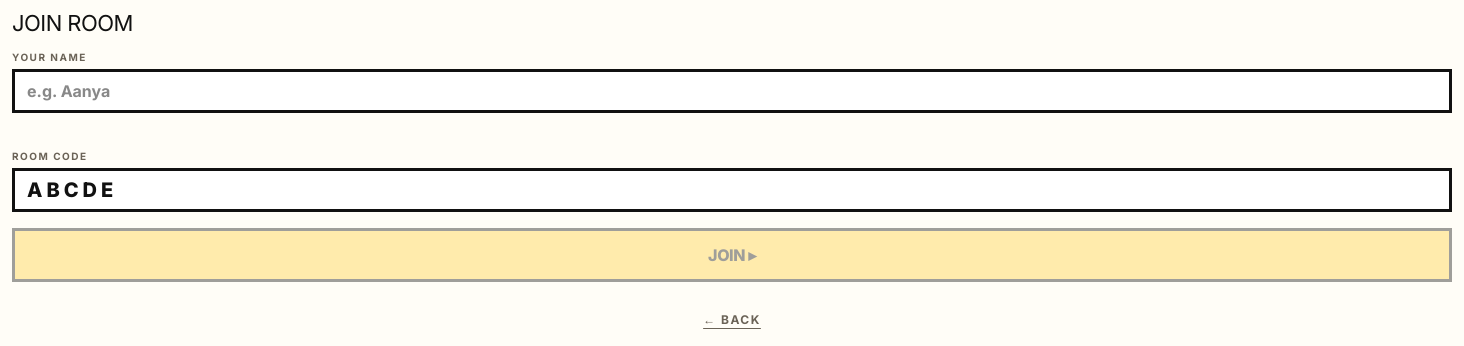
Test case: JoinRoom › lets a fresh visitor set a name inline (share-link flow) without losing the code
Check: the field labelled "Room code" holds "ABCDE", box [12,168,1452,212]
Check: the button "Join ▸" is disabled, box [12,228,1452,282]
Type "Mo" into the field labelled "Your name" at (732, 91), box [12,69,1452,113]
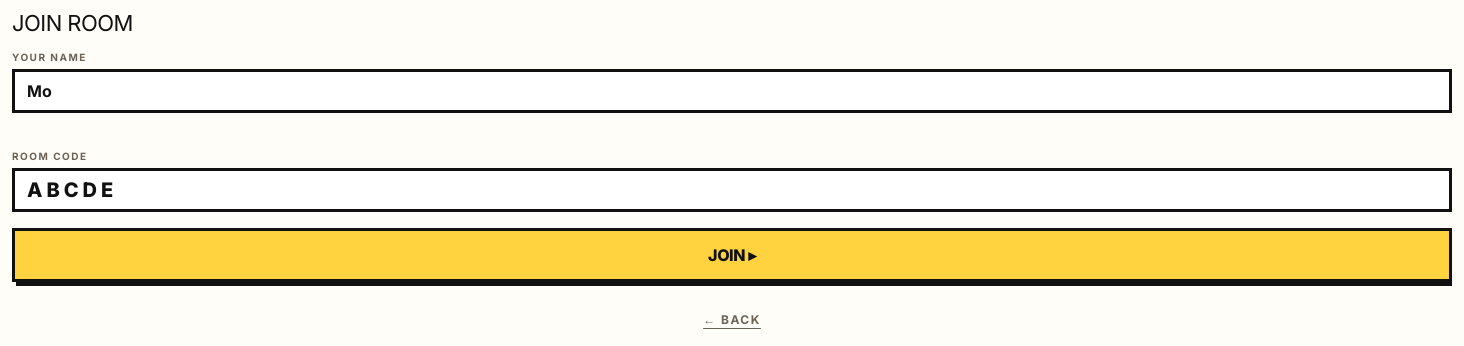
Check: the button "Join ▸" is enabled, box [12,228,1452,282]
